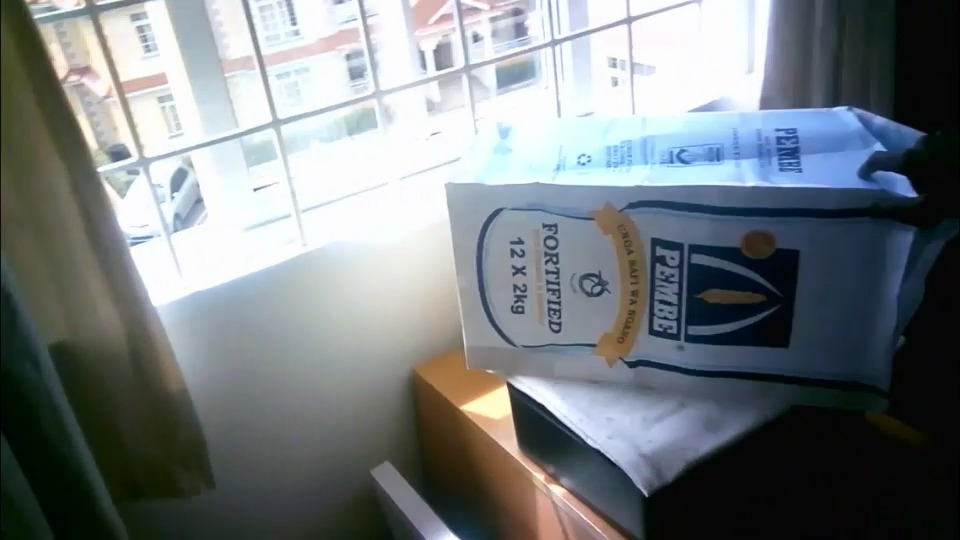wheat_flour_blue_label: (443, 106, 928, 409)
